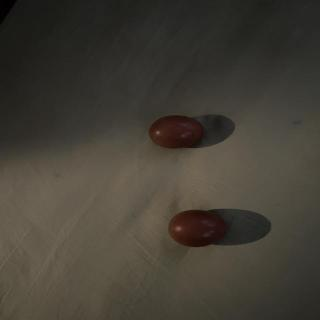Telur: (169, 208, 232, 251), (148, 114, 208, 152)
